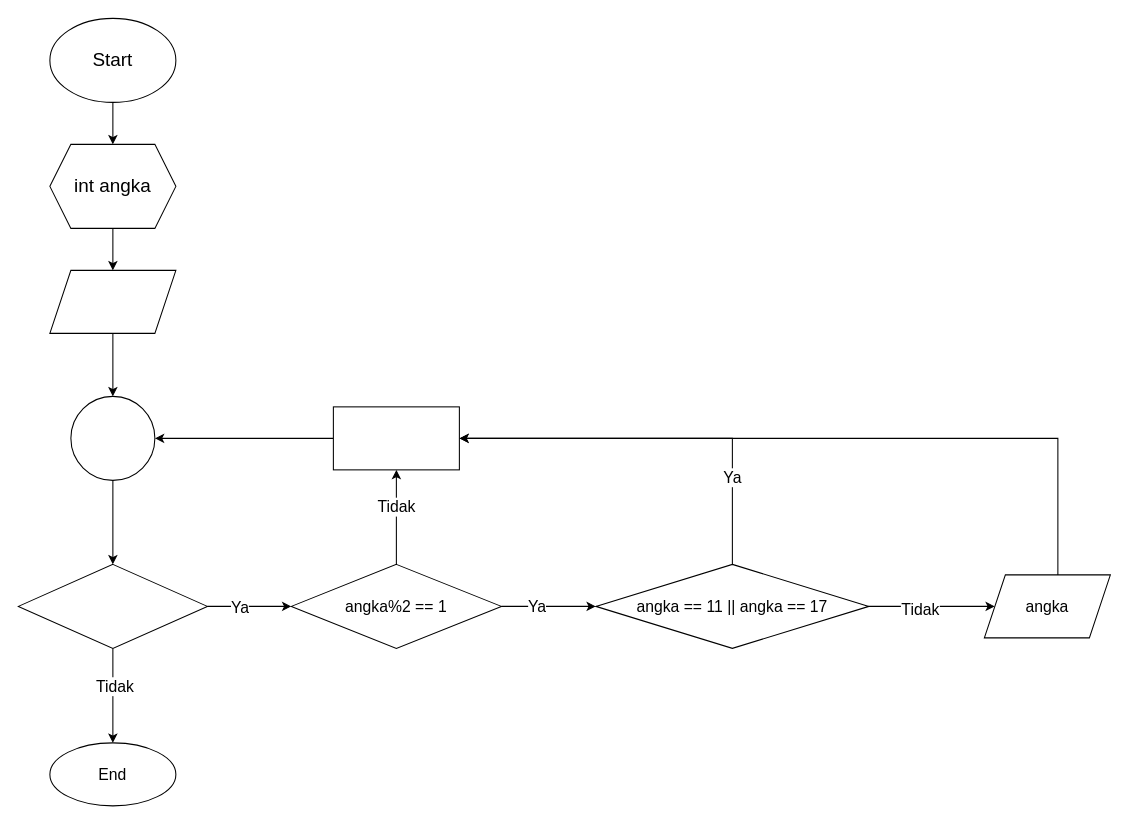
This 1129x824 diagram has some shape labels left out. Each missing label, with the centre of its shape:
angka <= 20: [112,605]
angka = 1: [112,301]
angka++: [395,438]
